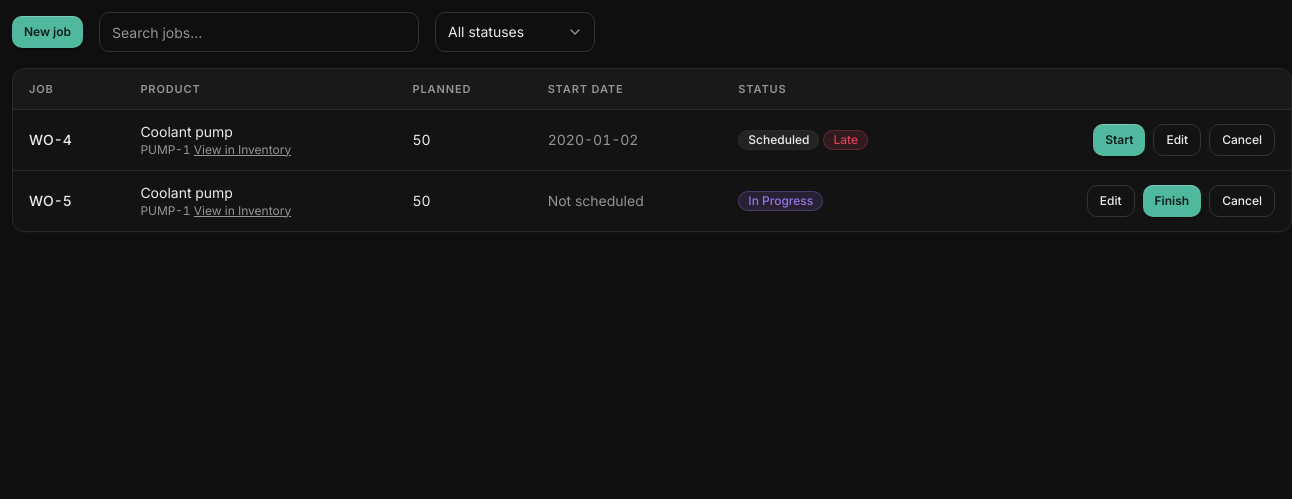
Test case: JobsPanel › shows a cancel error
Expected: the text "WO-4" is shown, [13, 109, 124, 170]
Click the button "Cancel" in the row of "2020-01-02": [1242, 140] box [1209, 124, 1275, 156]
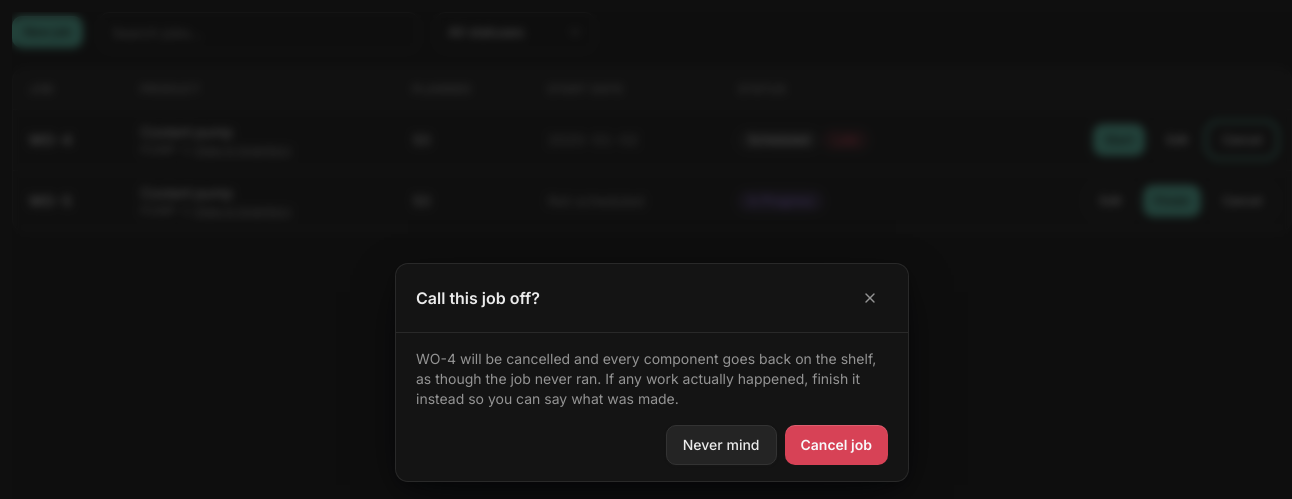
Click the button "Cancel job": [836, 444] box [784, 424, 888, 464]
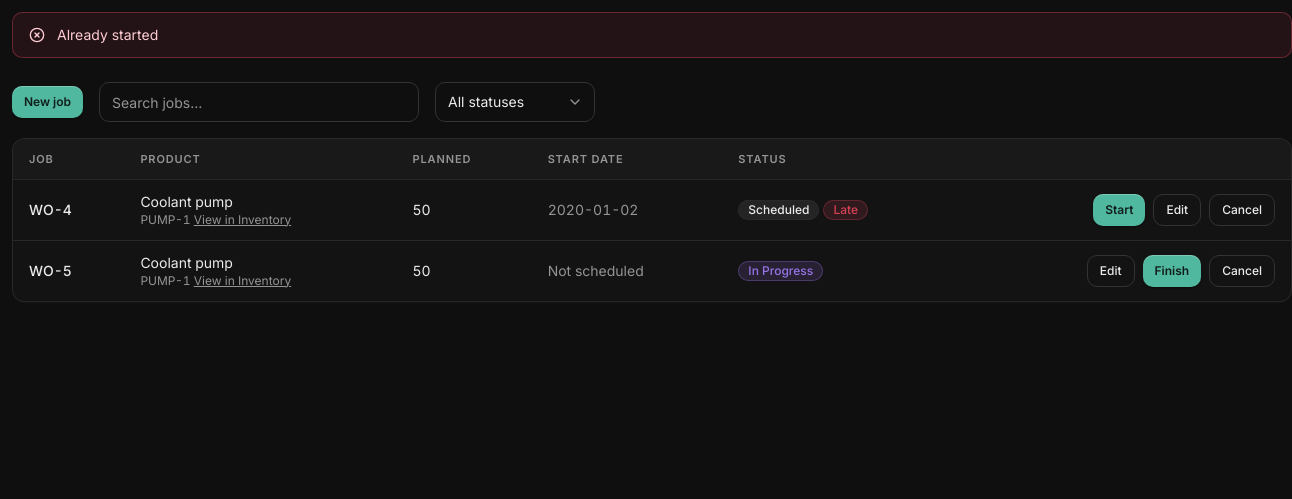
Expected: the text "Already started" is shown, [57, 25, 158, 45]
